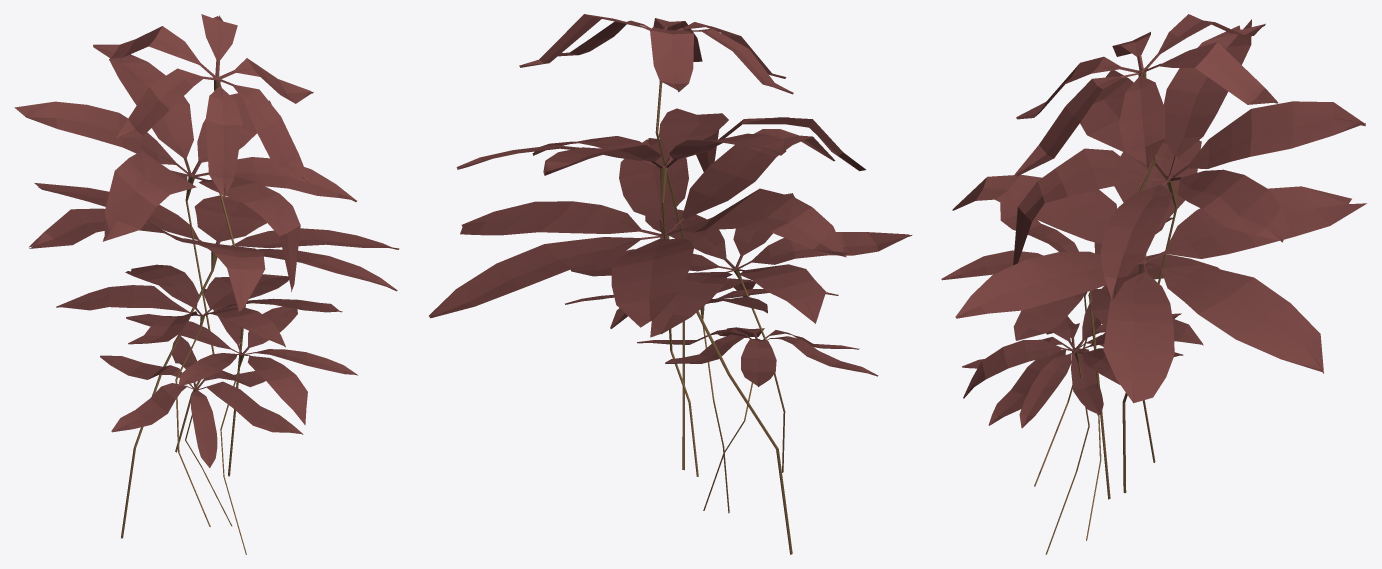
File: Plant03_Uvd.fbx
3 renders of one model, left to right at view 1: azimuth 30°, elevation 25°; view 2: azimuth 150°, elevation 25°; view 3: azimuth 270°, elevation 25°, orthographic. The views are drawn at different scales.
Visible parts, largest first — view 1: Flower03Plant; view 2: Flower03Plant; view 3: Flower03Plant.
Part boxes in pixels (bbox=[...]): Flower03Plant: bbox=[14, 14, 399, 554]; Flower03Plant: bbox=[429, 14, 912, 554]; Flower03Plant: bbox=[941, 14, 1366, 554].
Bounding box in the file's own units: 74.65 × 96.04 × 70.02.
